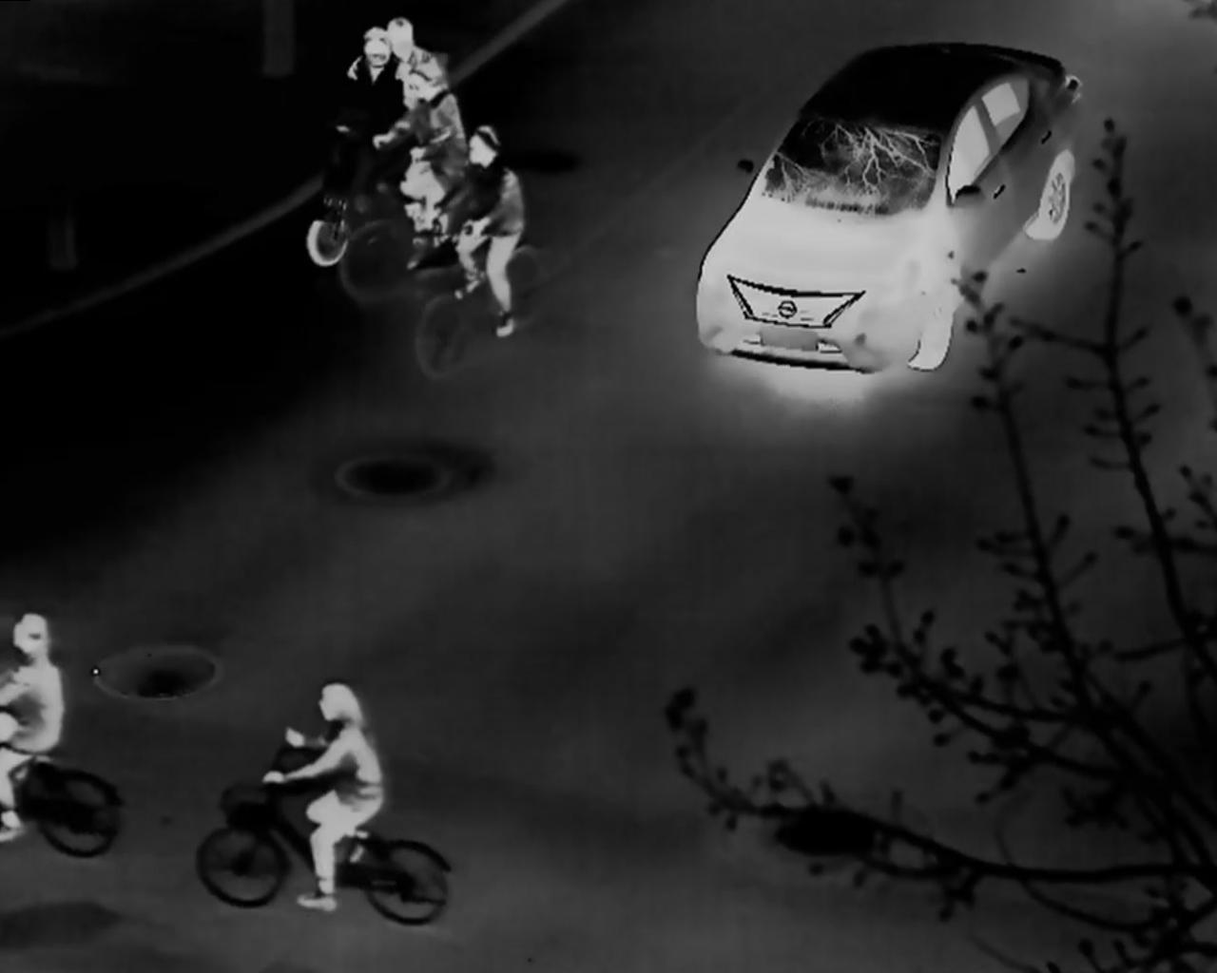person: (262, 682, 385, 912), (435, 124, 524, 340), (370, 61, 467, 238), (4, 613, 68, 840), (387, 10, 454, 82)
